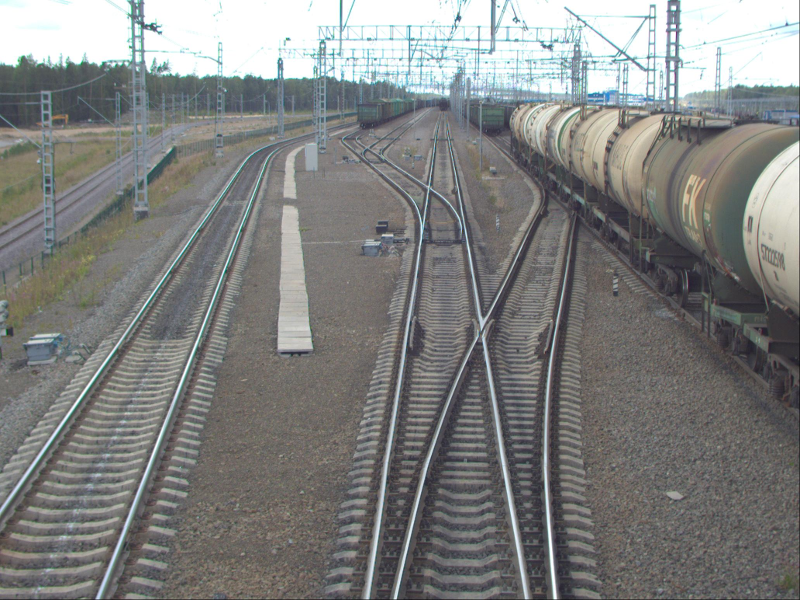right: (413, 216, 471, 242)
